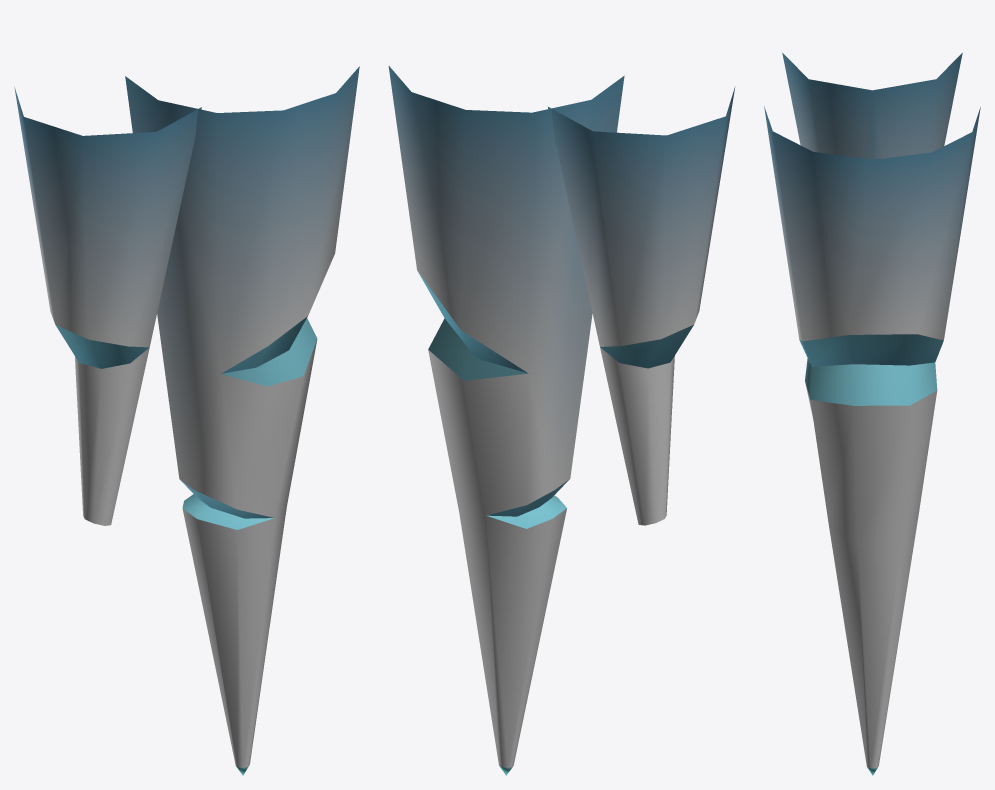
File: IcicleB_0.glb
3 renders of one model, left to right at view 1: azimuth 30°, elevation 25°; view 2: azimuth 150°, elevation 25°; view 3: azimuth 270°, elevation 25°, orthographic. The views are drawn at different scales.
Parts seen in each view (by area): view 1: IcicleB; view 2: IcicleB; view 3: IcicleB.
Boxes of the visible parts, x1,y1,x2,y2 form: IcicleB: [14, 66, 359, 775]; IcicleB: [388, 66, 735, 775]; IcicleB: [764, 53, 980, 775].
Size of the model in its own units: 1.23 by 2.6 by 0.7703.
